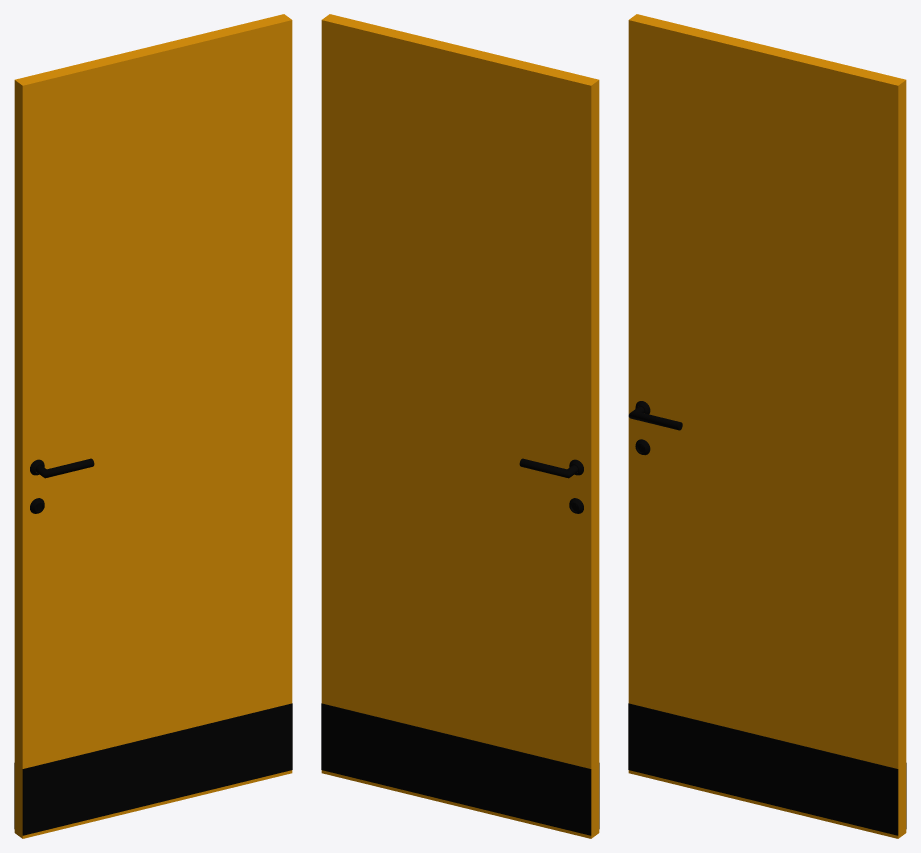
The model's file is Restroom_Door.fbx.
The picture shows the model from 3 angles, left to right: view 1: azimuth 30°, elevation 25°; view 2: azimuth 150°, elevation 25°; view 3: azimuth 330°, elevation 25°; orthographic projection.
Parts seen in each view (by area): view 1: restroom_door_1; view 2: restroom_door_1; view 3: restroom_door_1.
Part boxes in pixels (<box>): restroom_door_1: <box>14,14,292,838</box>; restroom_door_1: <box>321,14,599,838</box>; restroom_door_1: <box>628,14,906,838</box>.
Bounding box in the file's own units: 76.07 × 203 × 14.56.
